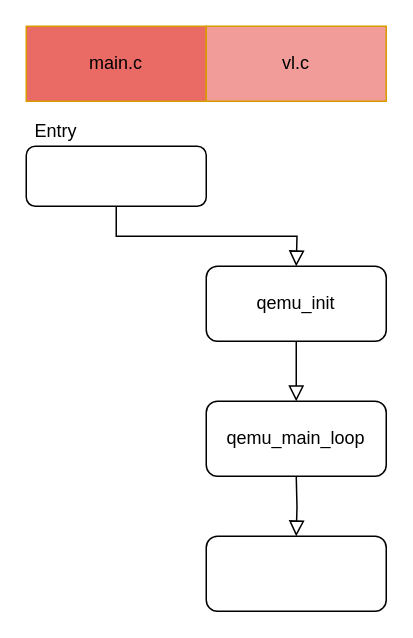
Image size: 413x638. Some labels were removed from this diagram. The shapes that lost their labels are listed below. From the top down, each one's box as (x1, y1, x2, y2) in pixels, then its label:
(25, 145, 206, 206): main
(205, 535, 386, 611): qemu_clean
